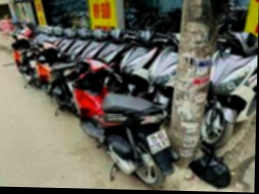Bien-so: (153, 129, 176, 157)
